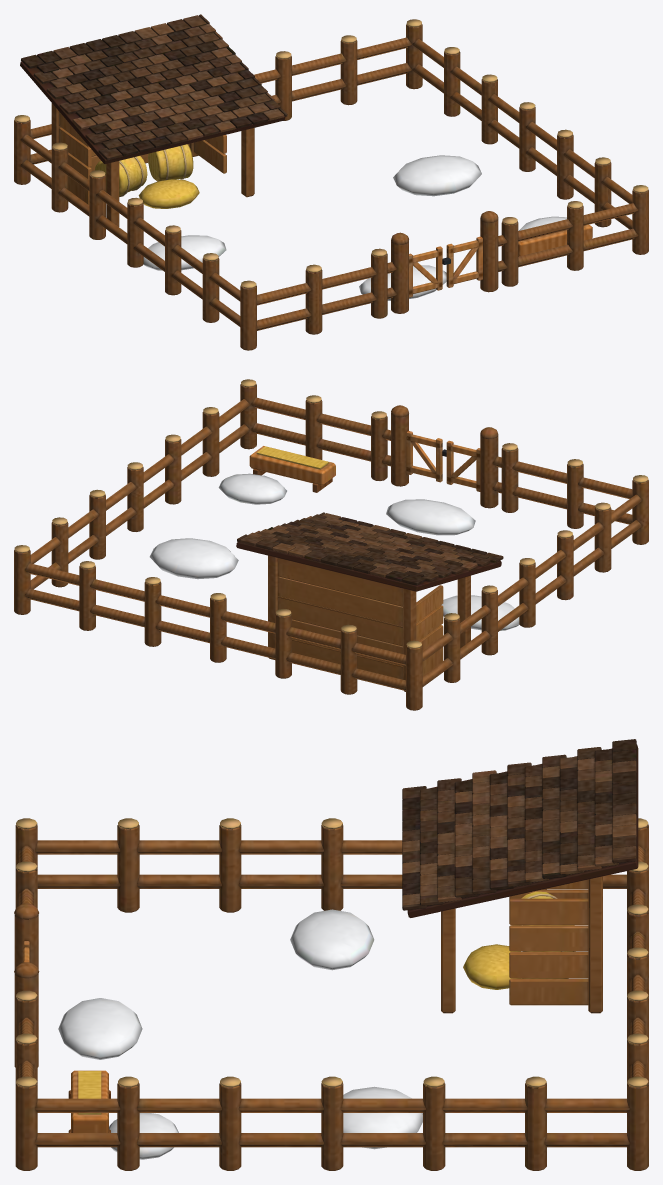
Rendered from musk_ox_range.glb.
3 renders of one model, top to bottom at view 1: azimuth 30°, elevation 25°; view 2: azimuth 150°, elevation 25°; view 3: azimuth 270°, elevation 25°, orthographic. The views are drawn at different scales.
Visible parts, largest first — view 1: musk_ox_range; view 2: musk_ox_range; view 3: musk_ox_range.
Part boxes in pixels (x1,y1,x2,y2): musk_ox_range: [14, 14, 648, 350]; musk_ox_range: [14, 379, 648, 710]; musk_ox_range: [14, 739, 648, 1170].
Size of the model in its own units: 3 by 0.9665 by 3.01.
1 material, 1 textured.
